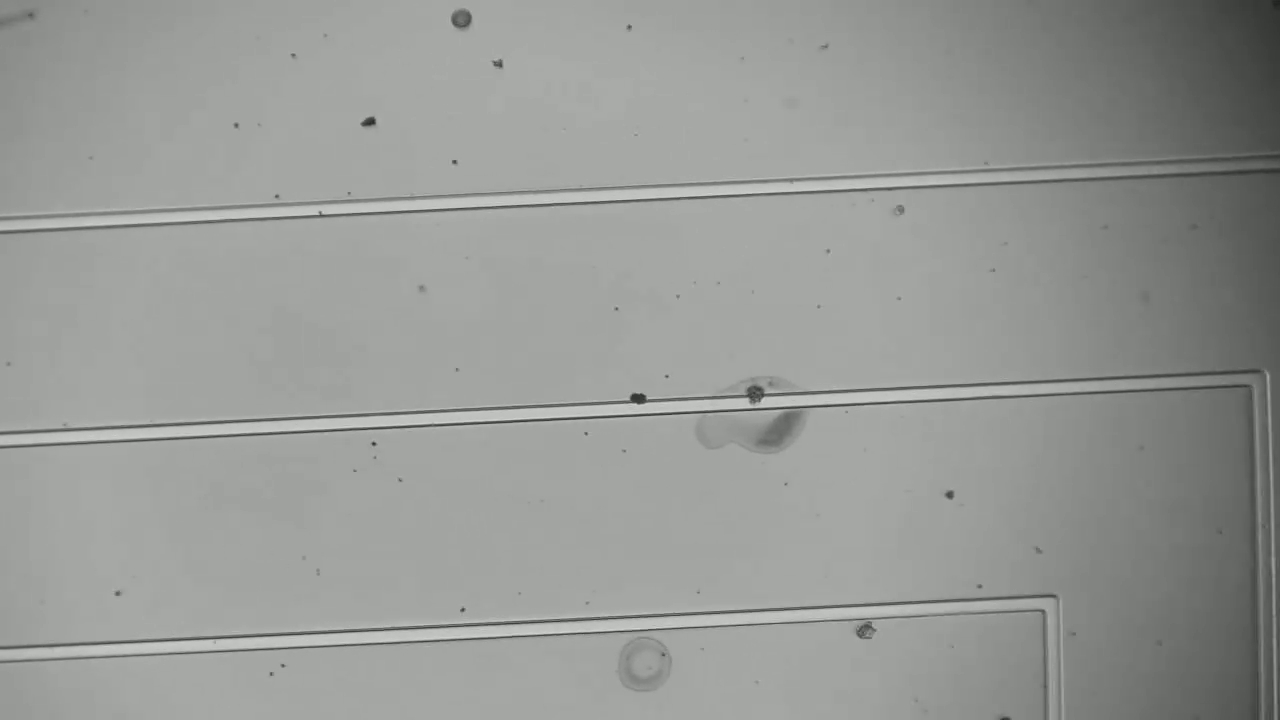stains_enbedded: (736, 379, 775, 422)
